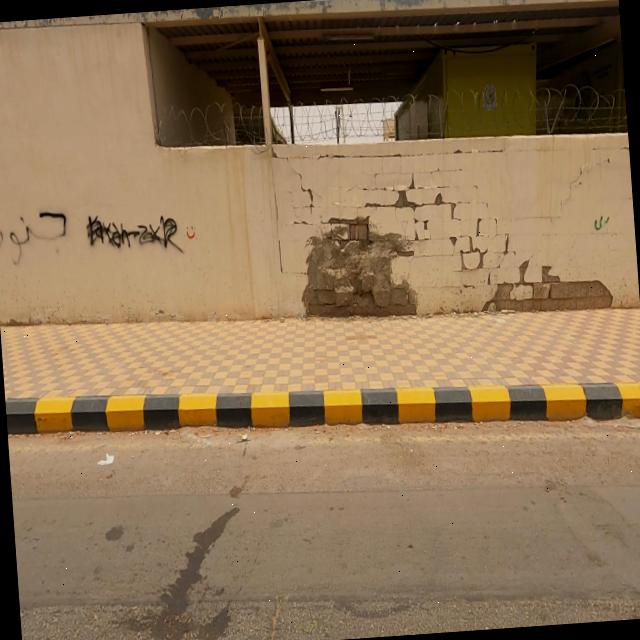Graffiti: (85, 208, 184, 262), (1, 208, 73, 265), (594, 215, 612, 231), (186, 224, 198, 242)
